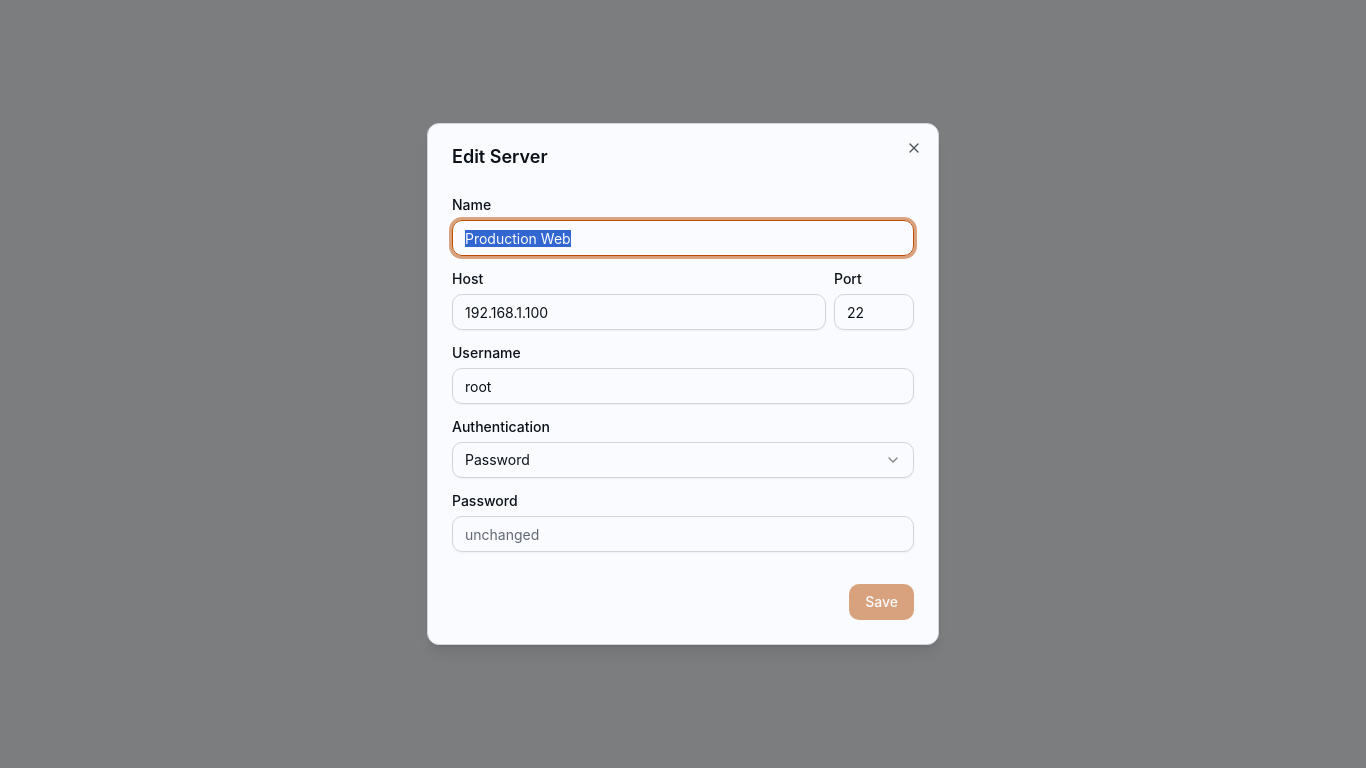
Scenario: EditServerDialog › re-test on host change shows fingerprint, trusting it enables Save
The image size is (1366, 768).
// Change host
Clear the field labelled "Host". click: x=639, y=312
box: [452, 294, 826, 330]
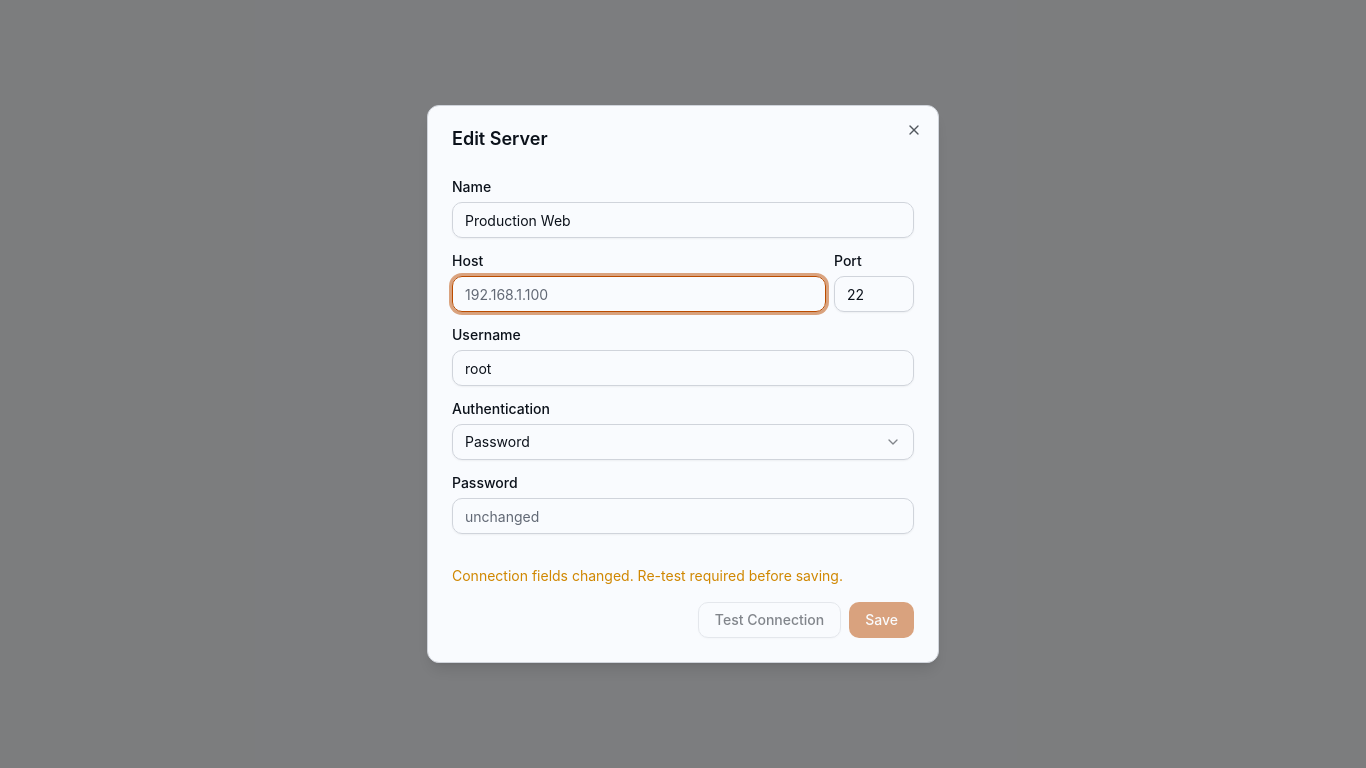
Type "10.0.0.1" into the field labelled "Host". click: x=639, y=294
box: [452, 276, 826, 312]
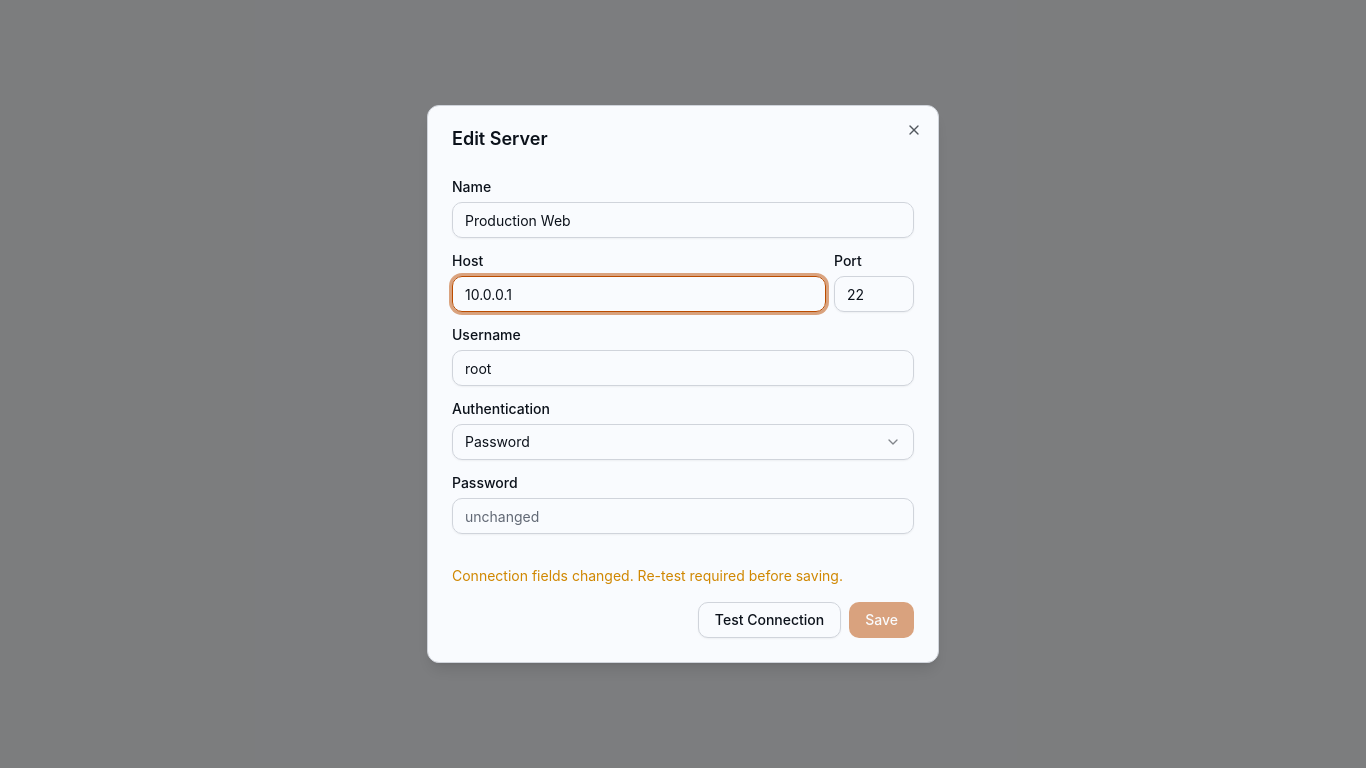
// Click Test Connection
Click the button "Test Connection". click: x=770, y=620
box: [698, 602, 841, 638]
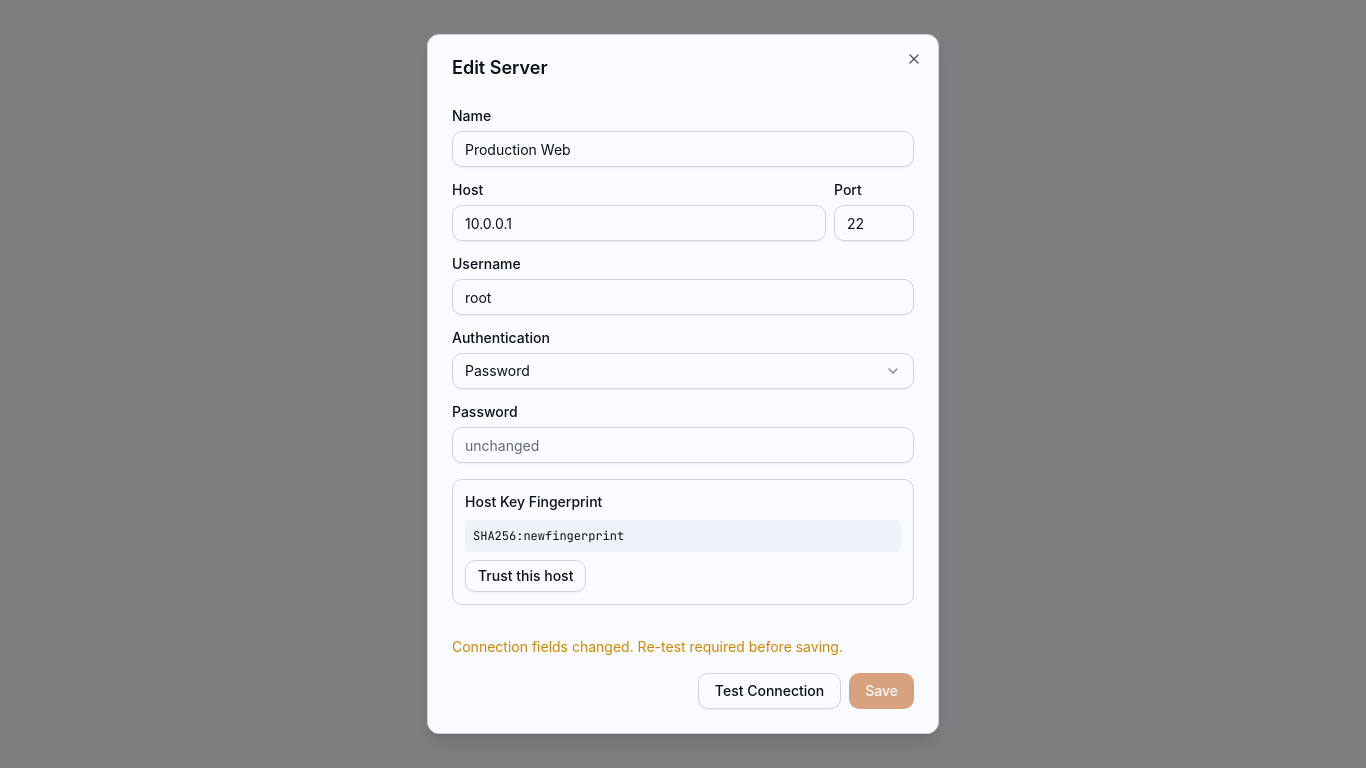
Expected: the button "Save" is disabled, [849, 673, 914, 709]
Expected: the text "SHA256:newfingerprint" is shown, [465, 520, 901, 552]
Expected: the text "Host Key Fingerprint" is shown, [465, 493, 602, 510]
// Trust the fingerprint
Click the button "Trust this host". click: x=526, y=576
box: [465, 560, 586, 592]
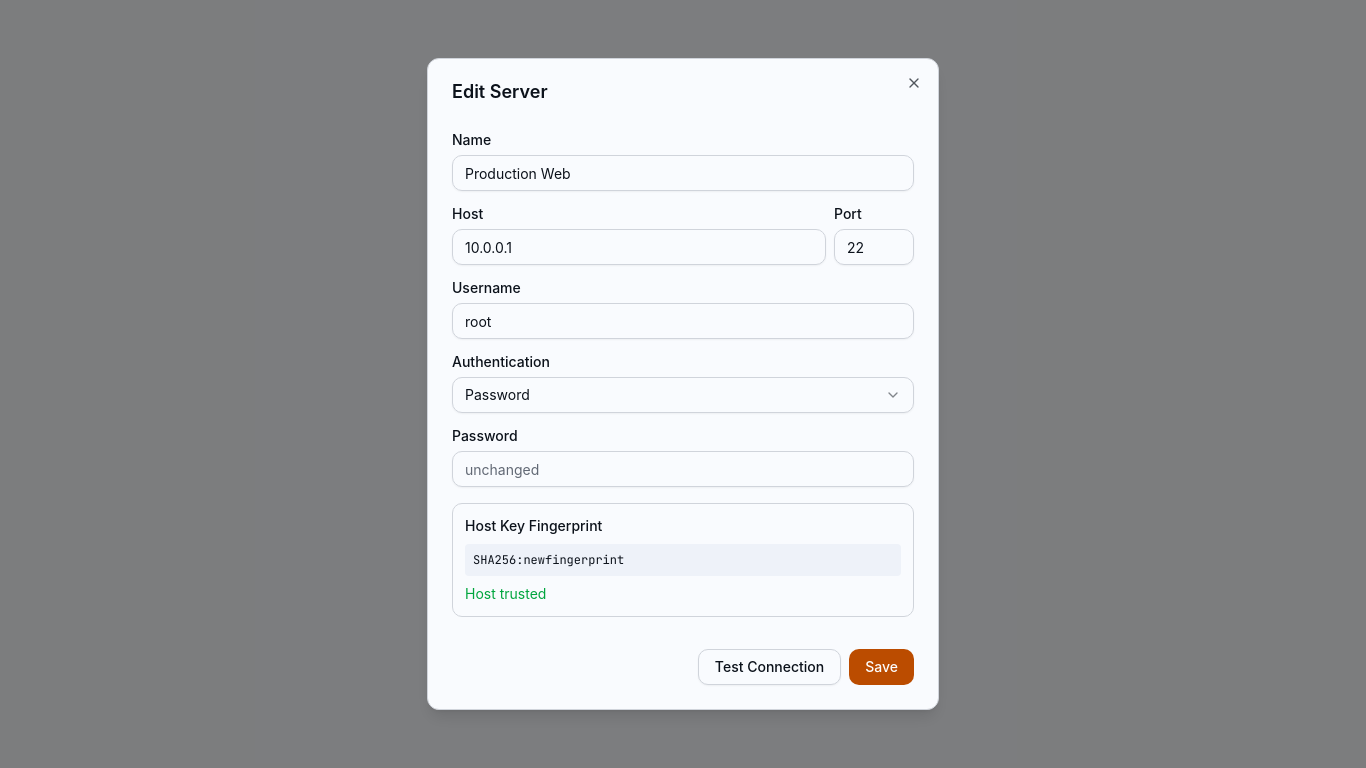
Expected: the text "Host trusted" is shown, [465, 585, 546, 602]
Expected: the button "Save" is enabled, [849, 649, 914, 685]
